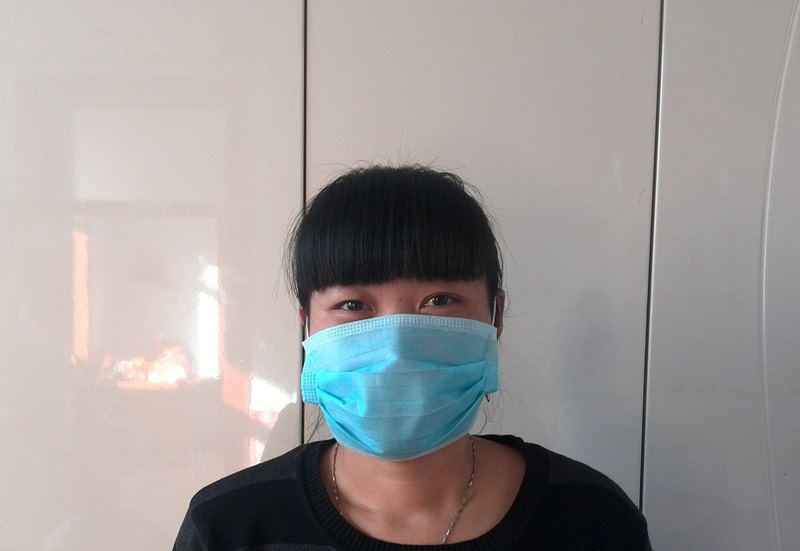face_mask: (301, 283, 497, 463)
